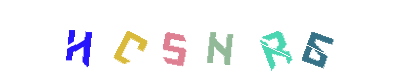6: (276, 0, 356, 80)
C: (89, 0, 169, 80)
H: (39, 0, 119, 80)
N: (165, 0, 245, 80)
R: (205, 0, 285, 80)
S: (134, 0, 214, 80)
